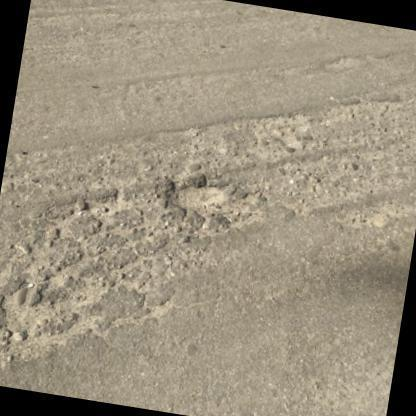pothole: (0, 178, 232, 362), (187, 100, 383, 163)
